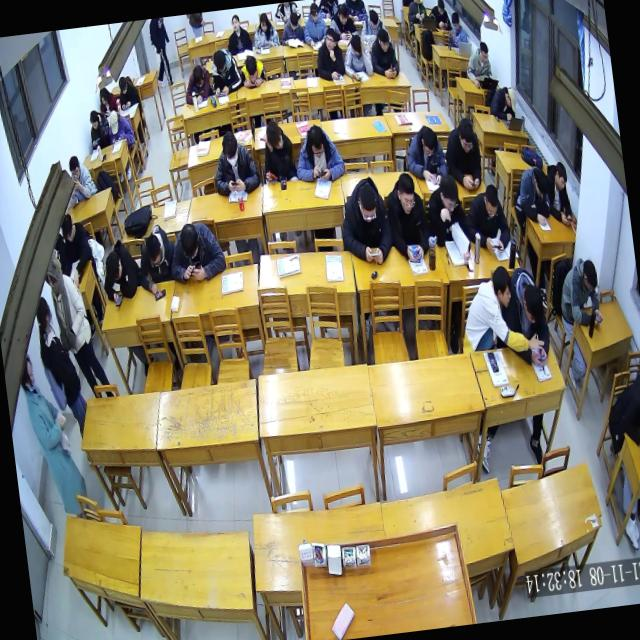bow: (164, 213, 228, 287), (97, 234, 144, 306), (509, 160, 554, 228), (180, 58, 213, 104), (486, 78, 520, 122), (236, 51, 268, 89)
down: (392, 168, 420, 216), (518, 281, 546, 328), (354, 178, 380, 224), (436, 172, 460, 218), (177, 221, 201, 262), (220, 128, 242, 170), (455, 118, 477, 156), (142, 231, 164, 269), (263, 118, 286, 153), (306, 122, 327, 160), (579, 256, 599, 294), (418, 124, 439, 160), (104, 248, 125, 284), (481, 182, 501, 218), (532, 167, 551, 200), (58, 209, 76, 243), (552, 157, 569, 191), (66, 154, 83, 184), (210, 48, 228, 76), (190, 60, 206, 90), (376, 28, 392, 56), (502, 84, 518, 112), (334, 1, 349, 28), (107, 108, 121, 136), (242, 54, 258, 78), (366, 7, 380, 32), (477, 39, 490, 65), (287, 9, 301, 32), (96, 84, 110, 106), (88, 106, 100, 130), (307, 0, 320, 22), (258, 11, 270, 34), (449, 10, 461, 32), (116, 74, 128, 95), (435, 0, 445, 15)
lookup: (41, 248, 64, 294), (322, 26, 339, 52), (229, 12, 241, 32), (410, 0, 422, 6)
sit: (14, 343, 88, 520), (42, 245, 110, 398), (32, 288, 88, 423), (452, 263, 525, 358), (496, 259, 555, 370), (334, 172, 396, 270), (422, 168, 474, 268), (382, 167, 434, 266), (459, 177, 514, 258), (206, 125, 262, 198), (554, 251, 604, 332), (438, 112, 486, 194), (290, 119, 346, 188), (132, 219, 179, 299), (400, 118, 450, 190), (55, 206, 96, 290), (599, 372, 640, 455), (256, 116, 299, 187), (542, 157, 576, 227), (311, 23, 347, 84), (62, 152, 99, 210), (206, 42, 244, 96), (338, 28, 374, 83), (366, 23, 401, 78), (462, 37, 494, 89), (300, 0, 330, 49), (325, 0, 360, 42), (222, 12, 254, 56), (356, 5, 389, 46), (249, 8, 280, 51), (104, 106, 136, 144), (86, 104, 112, 150), (278, 8, 306, 46), (115, 70, 141, 110), (444, 8, 469, 46), (425, 0, 451, 29), (96, 84, 117, 117), (403, 0, 428, 25)
